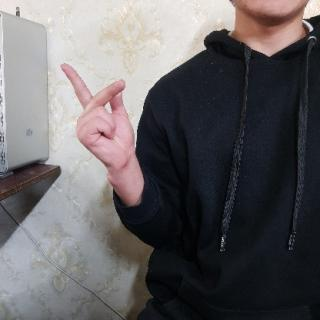DHAA: (58, 59, 143, 181)
